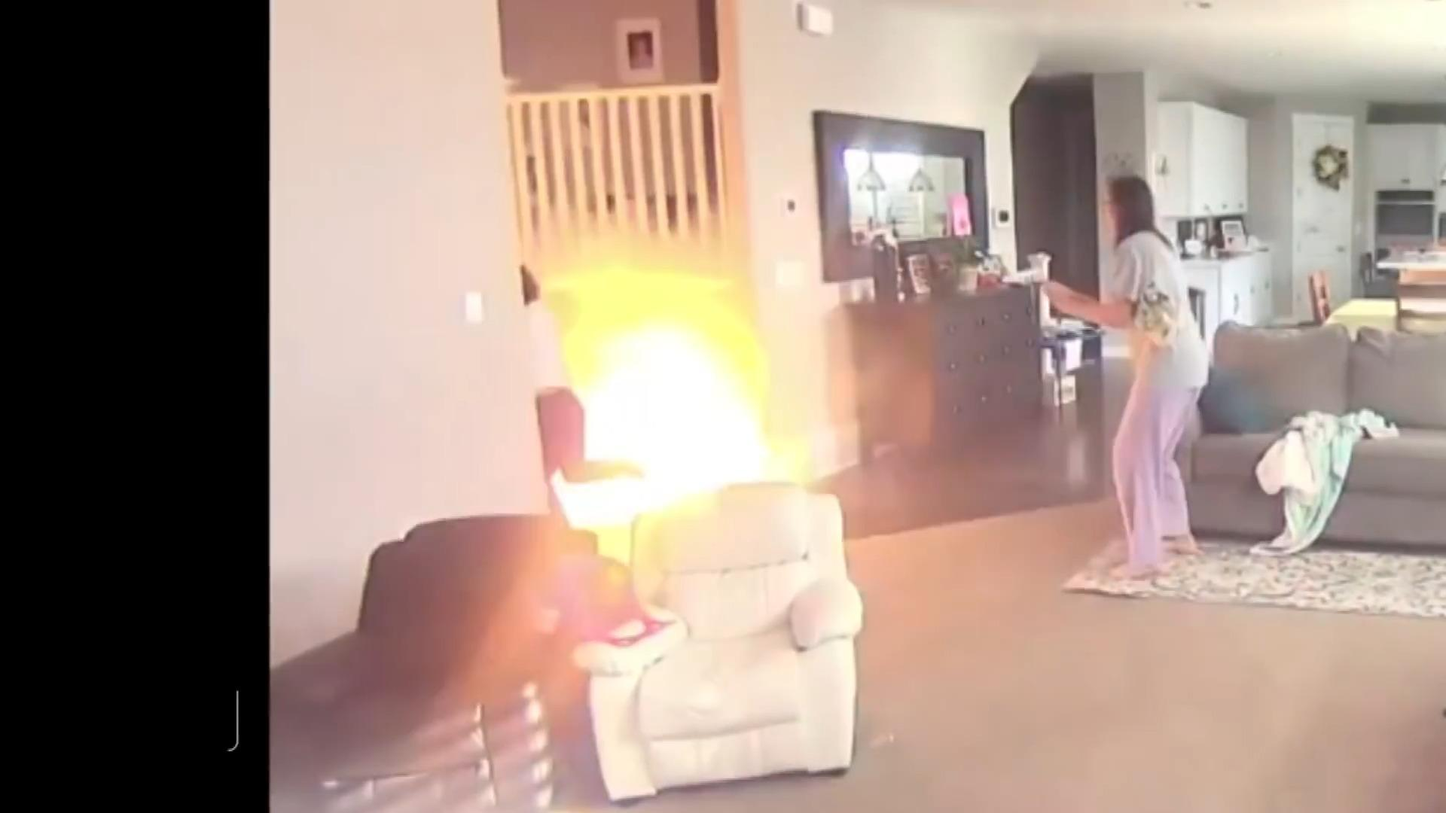fire: (536, 223, 781, 530)
